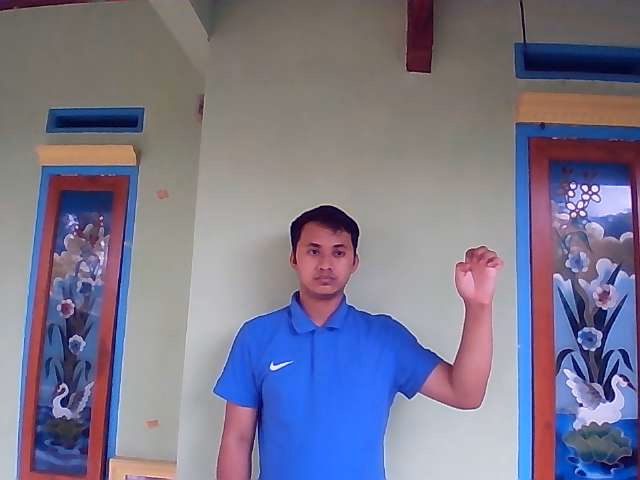E: (454, 246, 503, 307)
